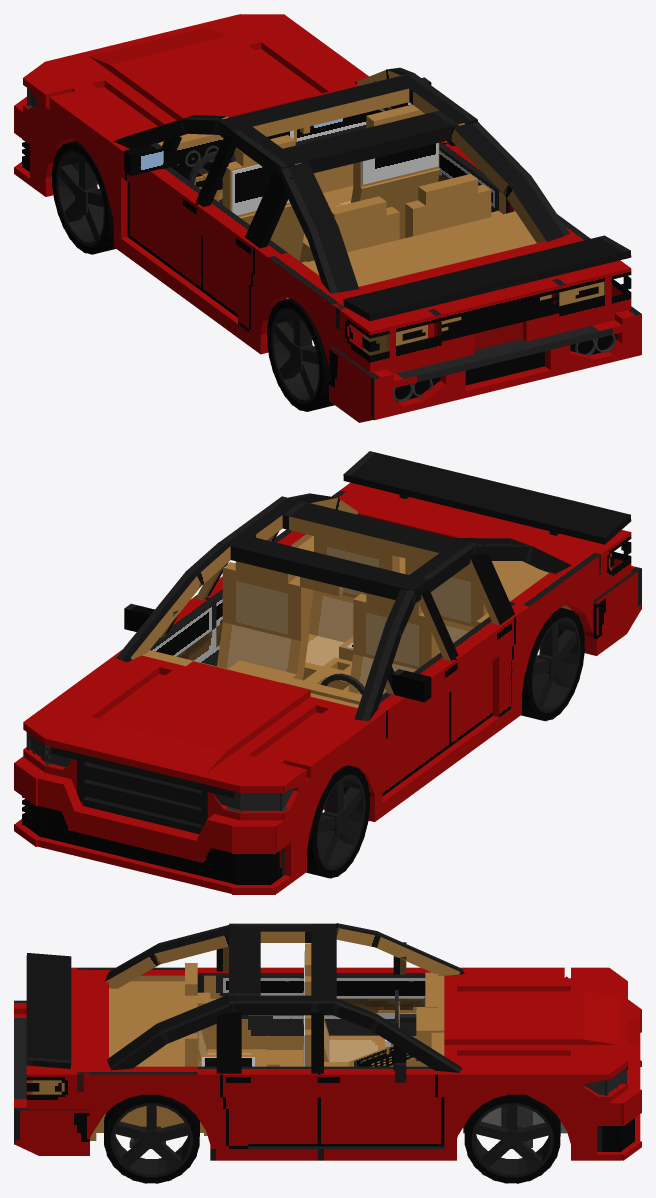
File: minecraft-car.glb
3 renders of one model, top to bottom at view 1: azimuth 30°, elevation 25°; view 2: azimuth 150°, elevation 25°; view 3: azimuth 270°, elevation 25°, orthographic. The views are drawn at different scales.
Visible parts, largest first — view 1: bone3_203, bone708_0, interior_317, bone3_207, bone3_209, bone3_179, bone3_162, bone3_185, bone3_164, bone3_175, bone3_174, bone3_180 (+52 smaller); view 2: bone3_203, bone708_0, bone3_192, bone3_207, bone3_209, bone15_280, bone3_162, bone3_242, bone15_277, bone22_121, bone14_275, bone3_164 (+57 smaller); view 3: bone3_203, bone3_163, bone708_0, interior_317, bone3_159, bone3_165, bone3_167, bone3_192, bone3_198, bone3_169, bone3_156, bone3_184 (+66 smaller).
Boxes of the visible parts, <box> form: bone3_203: <box>110,36,310,120</box>; bone708_0: <box>343,235,631,321</box>; interior_317: <box>303,211,536,286</box>; bone3_207: <box>218,72,428,139</box>; bone3_209: <box>283,110,458,173</box>; bone3_179: <box>434,280,559,341</box>; bone3_162: <box>127,182,202,291</box>; bone3_185: <box>393,320,622,387</box>; bone3_164: <box>196,200,287,284</box>; bone3_175: <box>551,267,611,333</box>; bone3_174: <box>382,309,441,373</box>; bone3_180: <box>329,345,393,420</box>; bone3_203: <box>110,661,310,756</box>; bone708_0: <box>343,451,631,544</box>; bone3_192: <box>347,487,591,561</box>; bone3_207: <box>218,532,428,602</box>; bone3_209: <box>282,501,457,563</box>; bone15_280: <box>222,562,308,640</box>; bone3_162: <box>382,691,451,796</box>; bone3_242: <box>68,805,205,862</box>; bone15_277: <box>353,594,439,669</box>; bone22_121: <box>89,722,228,772</box>; bone14_275: <box>217,622,309,680</box>; bone3_164: <box>438,602,529,685</box>; bone3_203: <box>444,991,583,1044</box>; bone3_163: <box>317,1097,444,1146</box>; bone708_0: <box>26,953,71,1068</box>; interior_317: <box>109,981,184,1066</box>; bone3_159: <box>317,1066,444,1097</box>; bone3_165: <box>197,1066,317,1097</box>; bone3_167: <box>248,1097,317,1146</box>; bone3_192: <box>71,975,108,1066</box>; bone3_198: <box>476,1063,583,1091</box>; bone3_169: <box>77,1066,197,1091</box>; bone3_156: <box>336,967,438,998</box>; bone3_184: <box>14,1102,89,1144</box>.
Bounding box in the file's own units: 2.88 × 1.82 × 6.2.
1 material, 1 textured.
